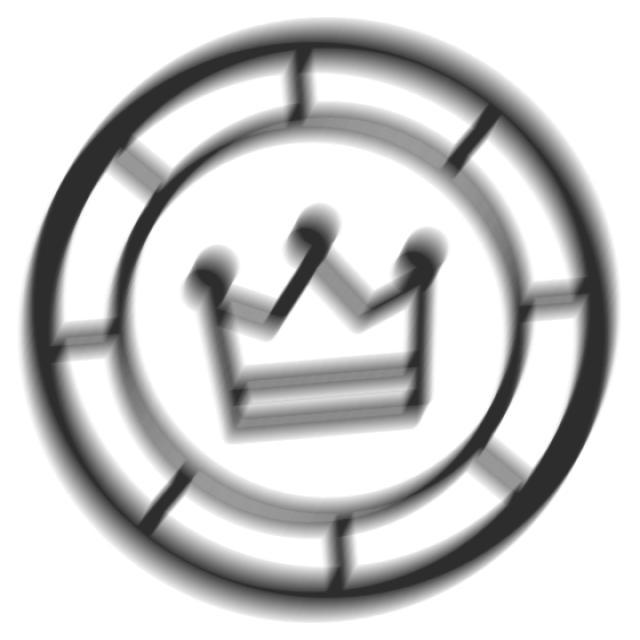coin: (14, 13, 628, 635)
